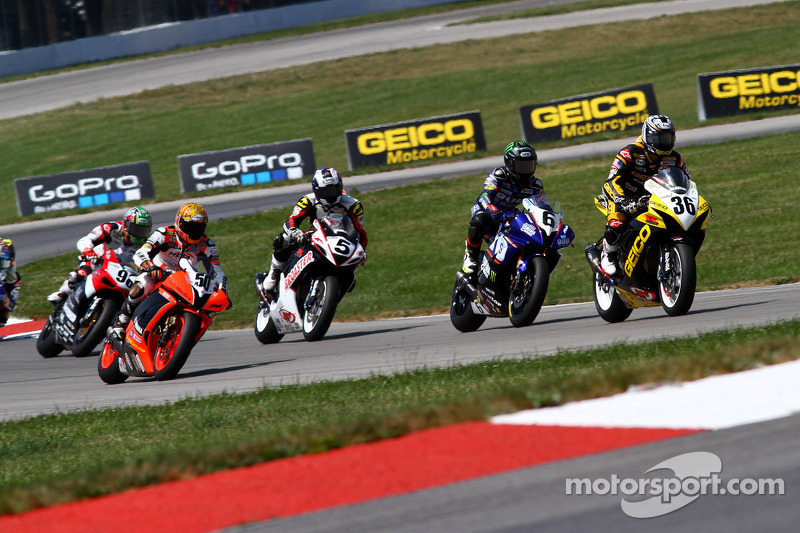Geico: (341, 63, 800, 160)
